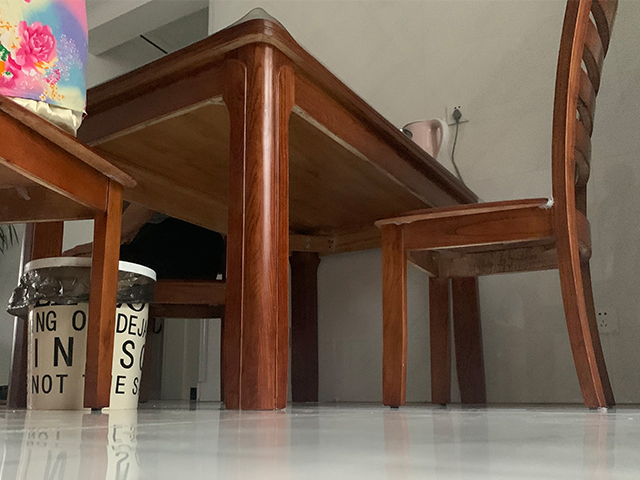stool: (373, 1, 619, 412), (1, 93, 139, 413)
table: (5, 6, 490, 416)
trashcan: (21, 256, 159, 411)
